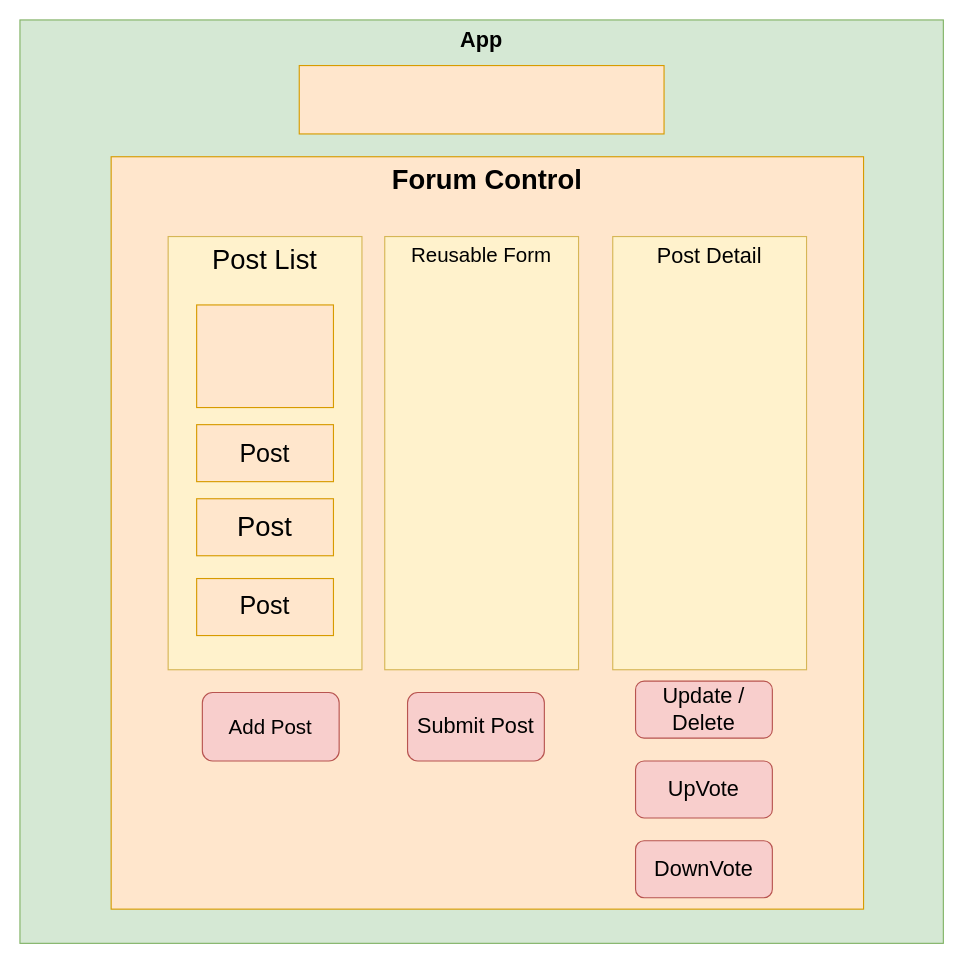
Image size: 963x963. Some labels were removed from this diagram. The centre of each missing label's shape, as x and y in pixels:
"Header" belongs at (481,99).
"Post Click post to View Post detail" belongs at (264,356).
